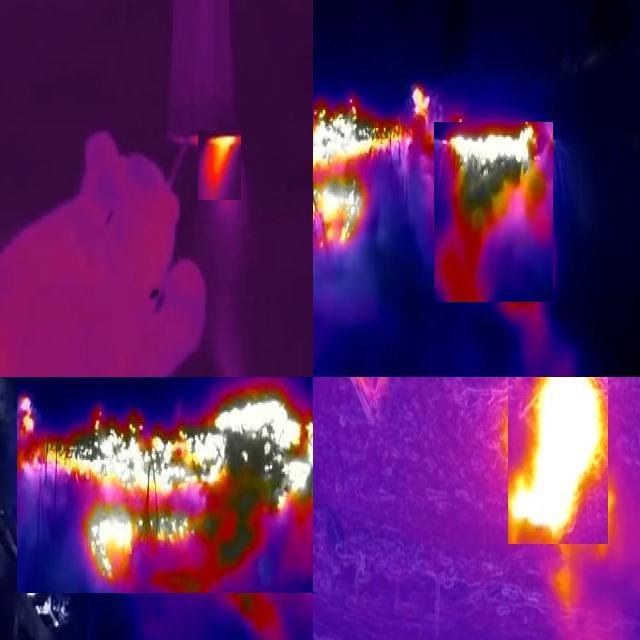fire: (18, 378, 314, 594), (314, 79, 430, 289), (435, 123, 554, 303), (509, 378, 609, 544), (199, 131, 242, 201)
